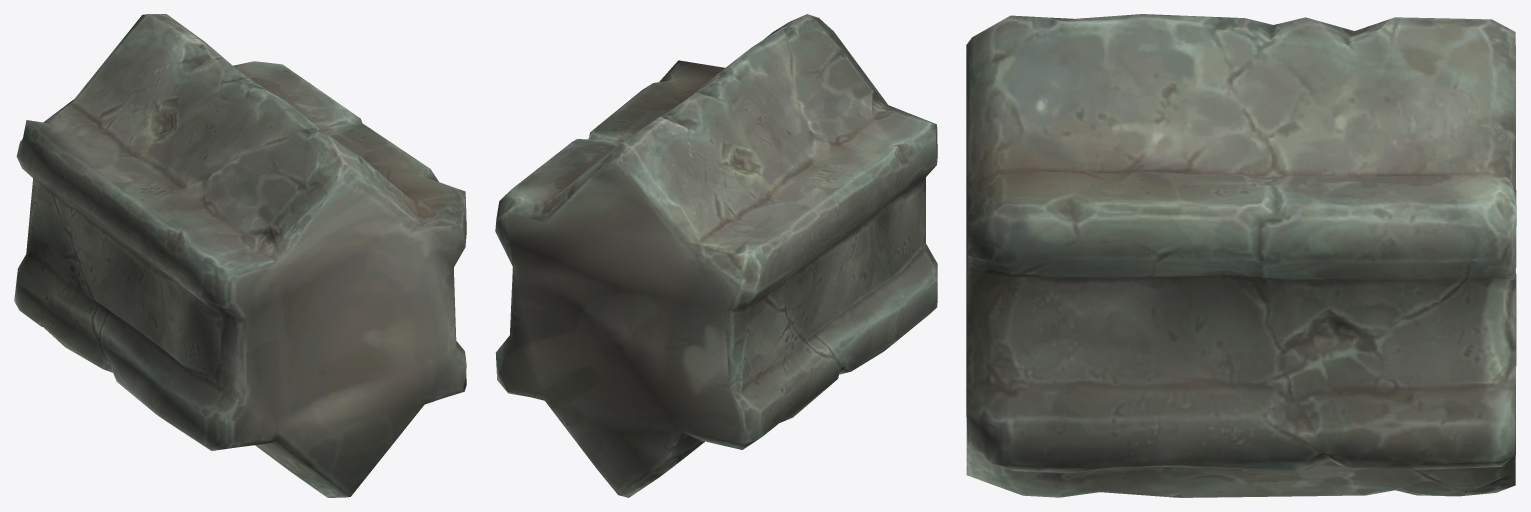
Rendered from Ruins_Pillar_4m_A.fbx.
3 renders of one model, left to right at view 1: azimuth 30°, elevation 25°; view 2: azimuth 150°, elevation 25°; view 3: azimuth 270°, elevation 25°, orthographic. The views are drawn at different scales.
Visible parts, largest first — view 1: Ruins_Pillar_4m_A; view 2: Ruins_Pillar_4m_A; view 3: Ruins_Pillar_4m_A.
Boxes of the visible parts, x1,y1,x2,y2 form: Ruins_Pillar_4m_A: (14,14,466,497); Ruins_Pillar_4m_A: (495,14,937,497); Ruins_Pillar_4m_A: (966,14,1516,497).
Size of the model in its own units: 300 by 386 by 401.
